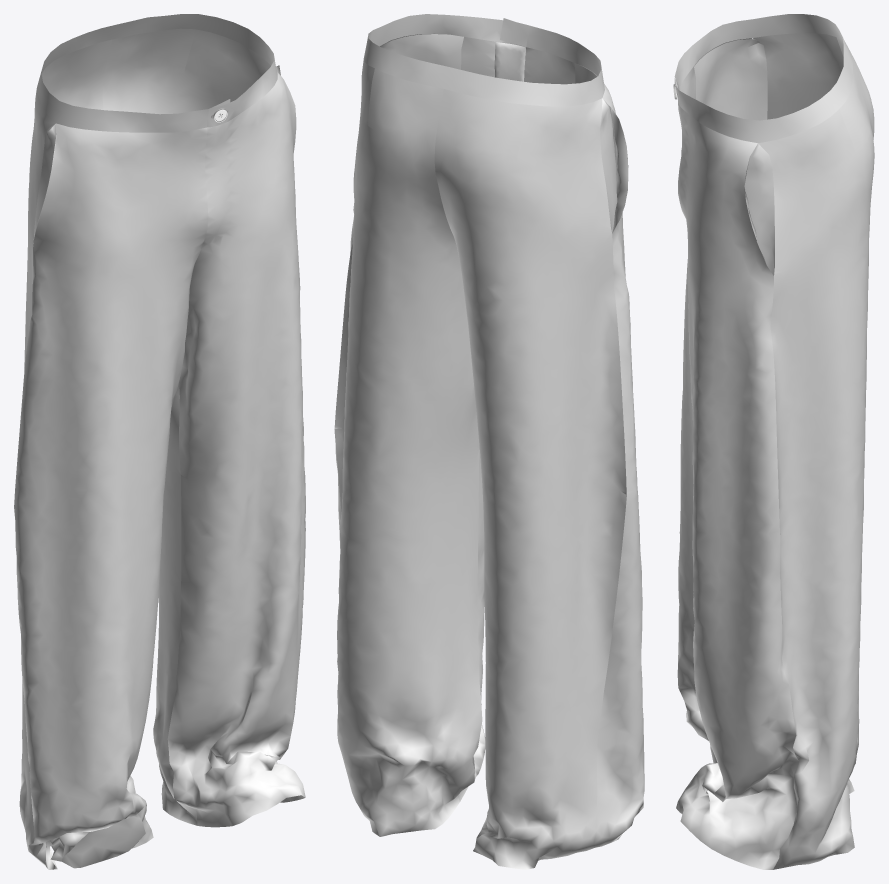
File: wide_pants.glb
The picture shows the model from 3 angles, left to right: view 1: azimuth 30°, elevation 25°; view 2: azimuth 150°, elevation 25°; view 3: azimuth 270°, elevation 25°; orthographic projection.
Visible parts, largest first — view 1: Pattern_3486356, Pattern_3486350, Pattern_3489168, Pattern_500159, Pattern_3489167, Pattern_3486354; view 2: Pattern_3489167, Pattern_3489168, Pattern_3486356, Pattern_500159, Pattern_3486350, Pattern_3486353, Pattern_3486354, Pattern_3486357, Pattern_3486352; view 3: Pattern_3486350, Pattern_3489168, Pattern_500159, Pattern_3489167, Pattern_3486356, Pattern_3486354, Pattern_3486353.
Boxes of the visible parts, left/top/right/bottom form: Pattern_3486356: left=14, top=123, right=208, bottom=869; Pattern_3486350: left=167, top=72, right=305, bottom=827; Pattern_3489168: left=102, top=28, right=270, bottom=825; Pattern_500159: left=37, top=14, right=277, bottom=132; Pattern_3489167: left=19, top=39, right=111, bottom=850; Pattern_3486354: left=33, top=124, right=56, bottom=246; Pattern_3489167: left=434, top=89, right=626, bottom=869; Pattern_3489168: left=334, top=58, right=482, bottom=836; Pattern_3486356: left=524, top=47, right=644, bottom=850; Pattern_500159: left=364, top=14, right=604, bottom=106; Pattern_3486350: left=335, top=33, right=526, bottom=801; Pattern_3486353: left=380, top=34, right=463, bottom=69; Pattern_3486354: left=574, top=63, right=617, bottom=232; Pattern_3486357: left=603, top=99, right=628, bottom=233; Pattern_3486352: left=494, top=42, right=525, bottom=81; Pattern_3486350: left=676, top=101, right=799, bottom=869; Pattern_3489168: left=758, top=70, right=874, bottom=869; Pattern_500159: left=674, top=14, right=852, bottom=143; Pattern_3489167: left=753, top=33, right=874, bottom=793; Pattern_3486356: left=677, top=38, right=752, bottom=763; Pattern_3486354: left=694, top=38, right=767, bottom=120; Pattern_3486353: left=744, top=143, right=774, bottom=275.
Bounding box in the file's own units: 0.4406 × 1.13 × 0.2682.
6 materials, 1 textured.
